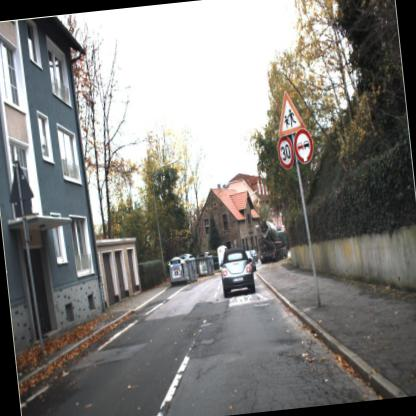danger: (268, 84, 310, 138)
prohibitory: (292, 124, 314, 167), (276, 135, 295, 170)
